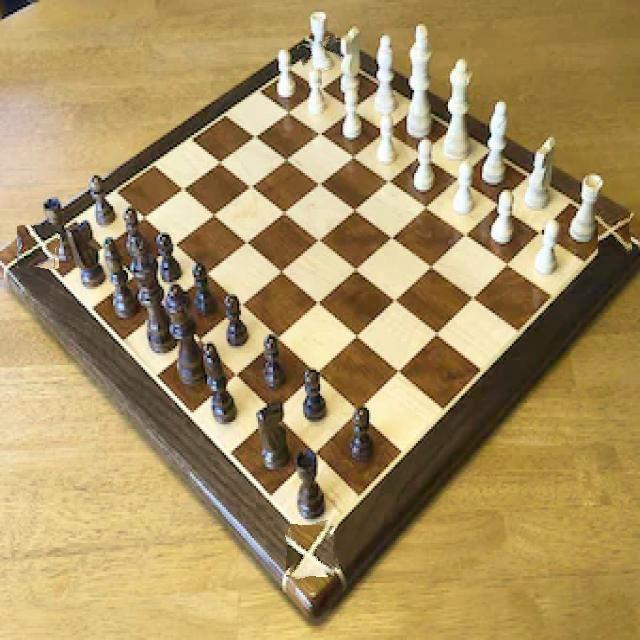chess-table-corners: (286, 522, 338, 577), (18, 225, 60, 269), (598, 210, 631, 255), (299, 36, 341, 70)
